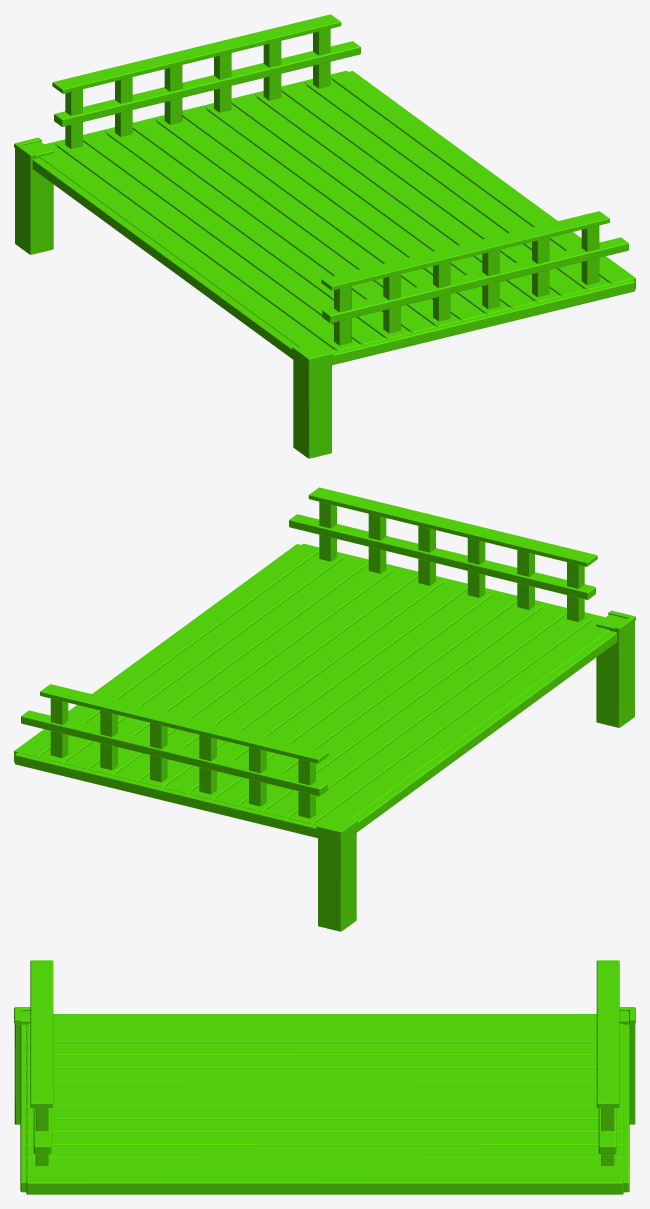
File: pier_fix.fbx
3 renders of one model, top to bottom at view 1: azimuth 30°, elevation 25°; view 2: azimuth 150°, elevation 25°; view 3: azimuth 270°, elevation 25°, orthographic. The views are drawn at different scales.
Parts seen in each view (by area): view 1: pier_base, pier_fence_poles, pier_fence_log1, pier_fence_log2, pier_poles, pier_side_log, pier_front_log; view 2: pier_base, pier_fence_poles, pier_fence_log1, pier_fence_log2, pier_poles, pier_side_log, pier_front_log; view 3: pier_base, pier_fence_log1, pier_side_log, pier_poles, pier_front_log, pier_fence_log2, pier_fence_poles.
Part boxes in pixels (left/top/right/bottom): pier_base: left=40, top=71, right=635, bottom=352; pier_fence_poles: left=65, top=29, right=599, bottom=345; pier_fence_log1: left=52, top=14, right=609, bottom=290; pier_fence_log2: left=54, top=41, right=628, bottom=323; pier_poles: left=14, top=137, right=333, bottom=458; pier_side_log: left=45, top=70, right=635, bottom=365; pier_front_log: left=32, top=158, right=298, bottom=359; pier_base: left=14, top=544, right=609, bottom=825; pier_fence_poles: left=50, top=502, right=584, bottom=818; pier_fence_log1: left=40, top=487, right=597, bottom=763; pier_fence_log2: left=21, top=514, right=595, bottom=796; pier_poles: left=316, top=610, right=635, bottom=931; pier_side_log: left=14, top=543, right=604, bottom=838; pier_front_log: left=351, top=631, right=617, bottom=832; pier_base: left=26, top=1016, right=623, bottom=1194; pier_fence_log1: left=30, top=960, right=619, bottom=1107; pier_side_log: left=20, top=1024, right=629, bottom=1192; pier_poles: left=14, top=1007, right=635, bottom=1124; pier_front_log: left=53, top=1014, right=596, bottom=1016; pier_fence_log2: left=33, top=1108, right=616, bottom=1154; pier_fence_poles: left=35, top=1108, right=614, bottom=1165.
Bounding box in the file's own units: 1027 × 469 × 1572.
